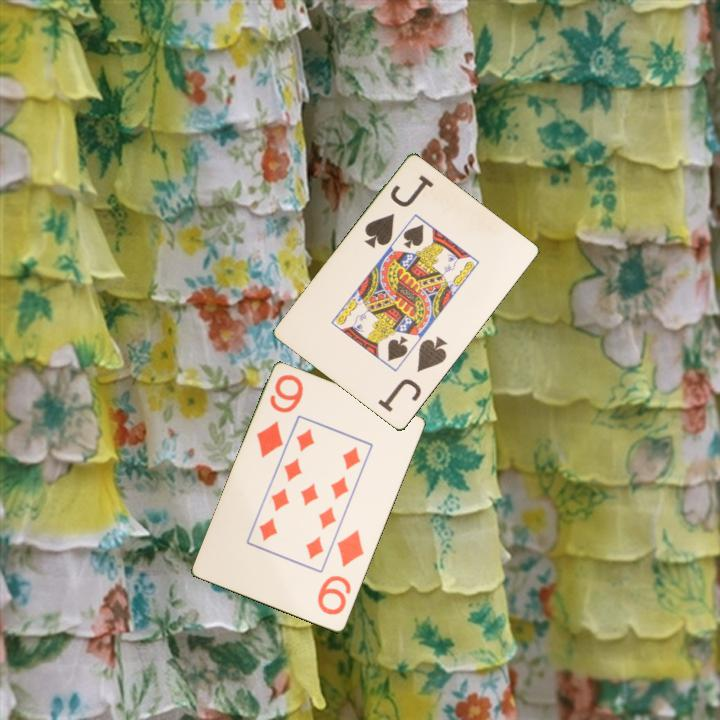9d: (314, 526, 367, 618), (253, 371, 306, 461)
Js: (374, 332, 450, 415), (361, 171, 437, 252)
